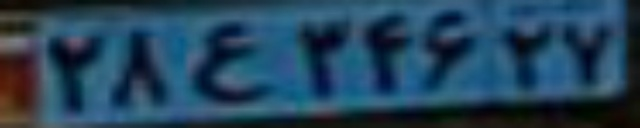2: (47, 32, 102, 114), (502, 21, 554, 88)
3: (292, 15, 350, 99)
4: (365, 14, 410, 97)
6: (418, 10, 477, 93)
7: (560, 20, 617, 87)
8: (108, 28, 172, 107)
ain: (191, 21, 270, 101)
